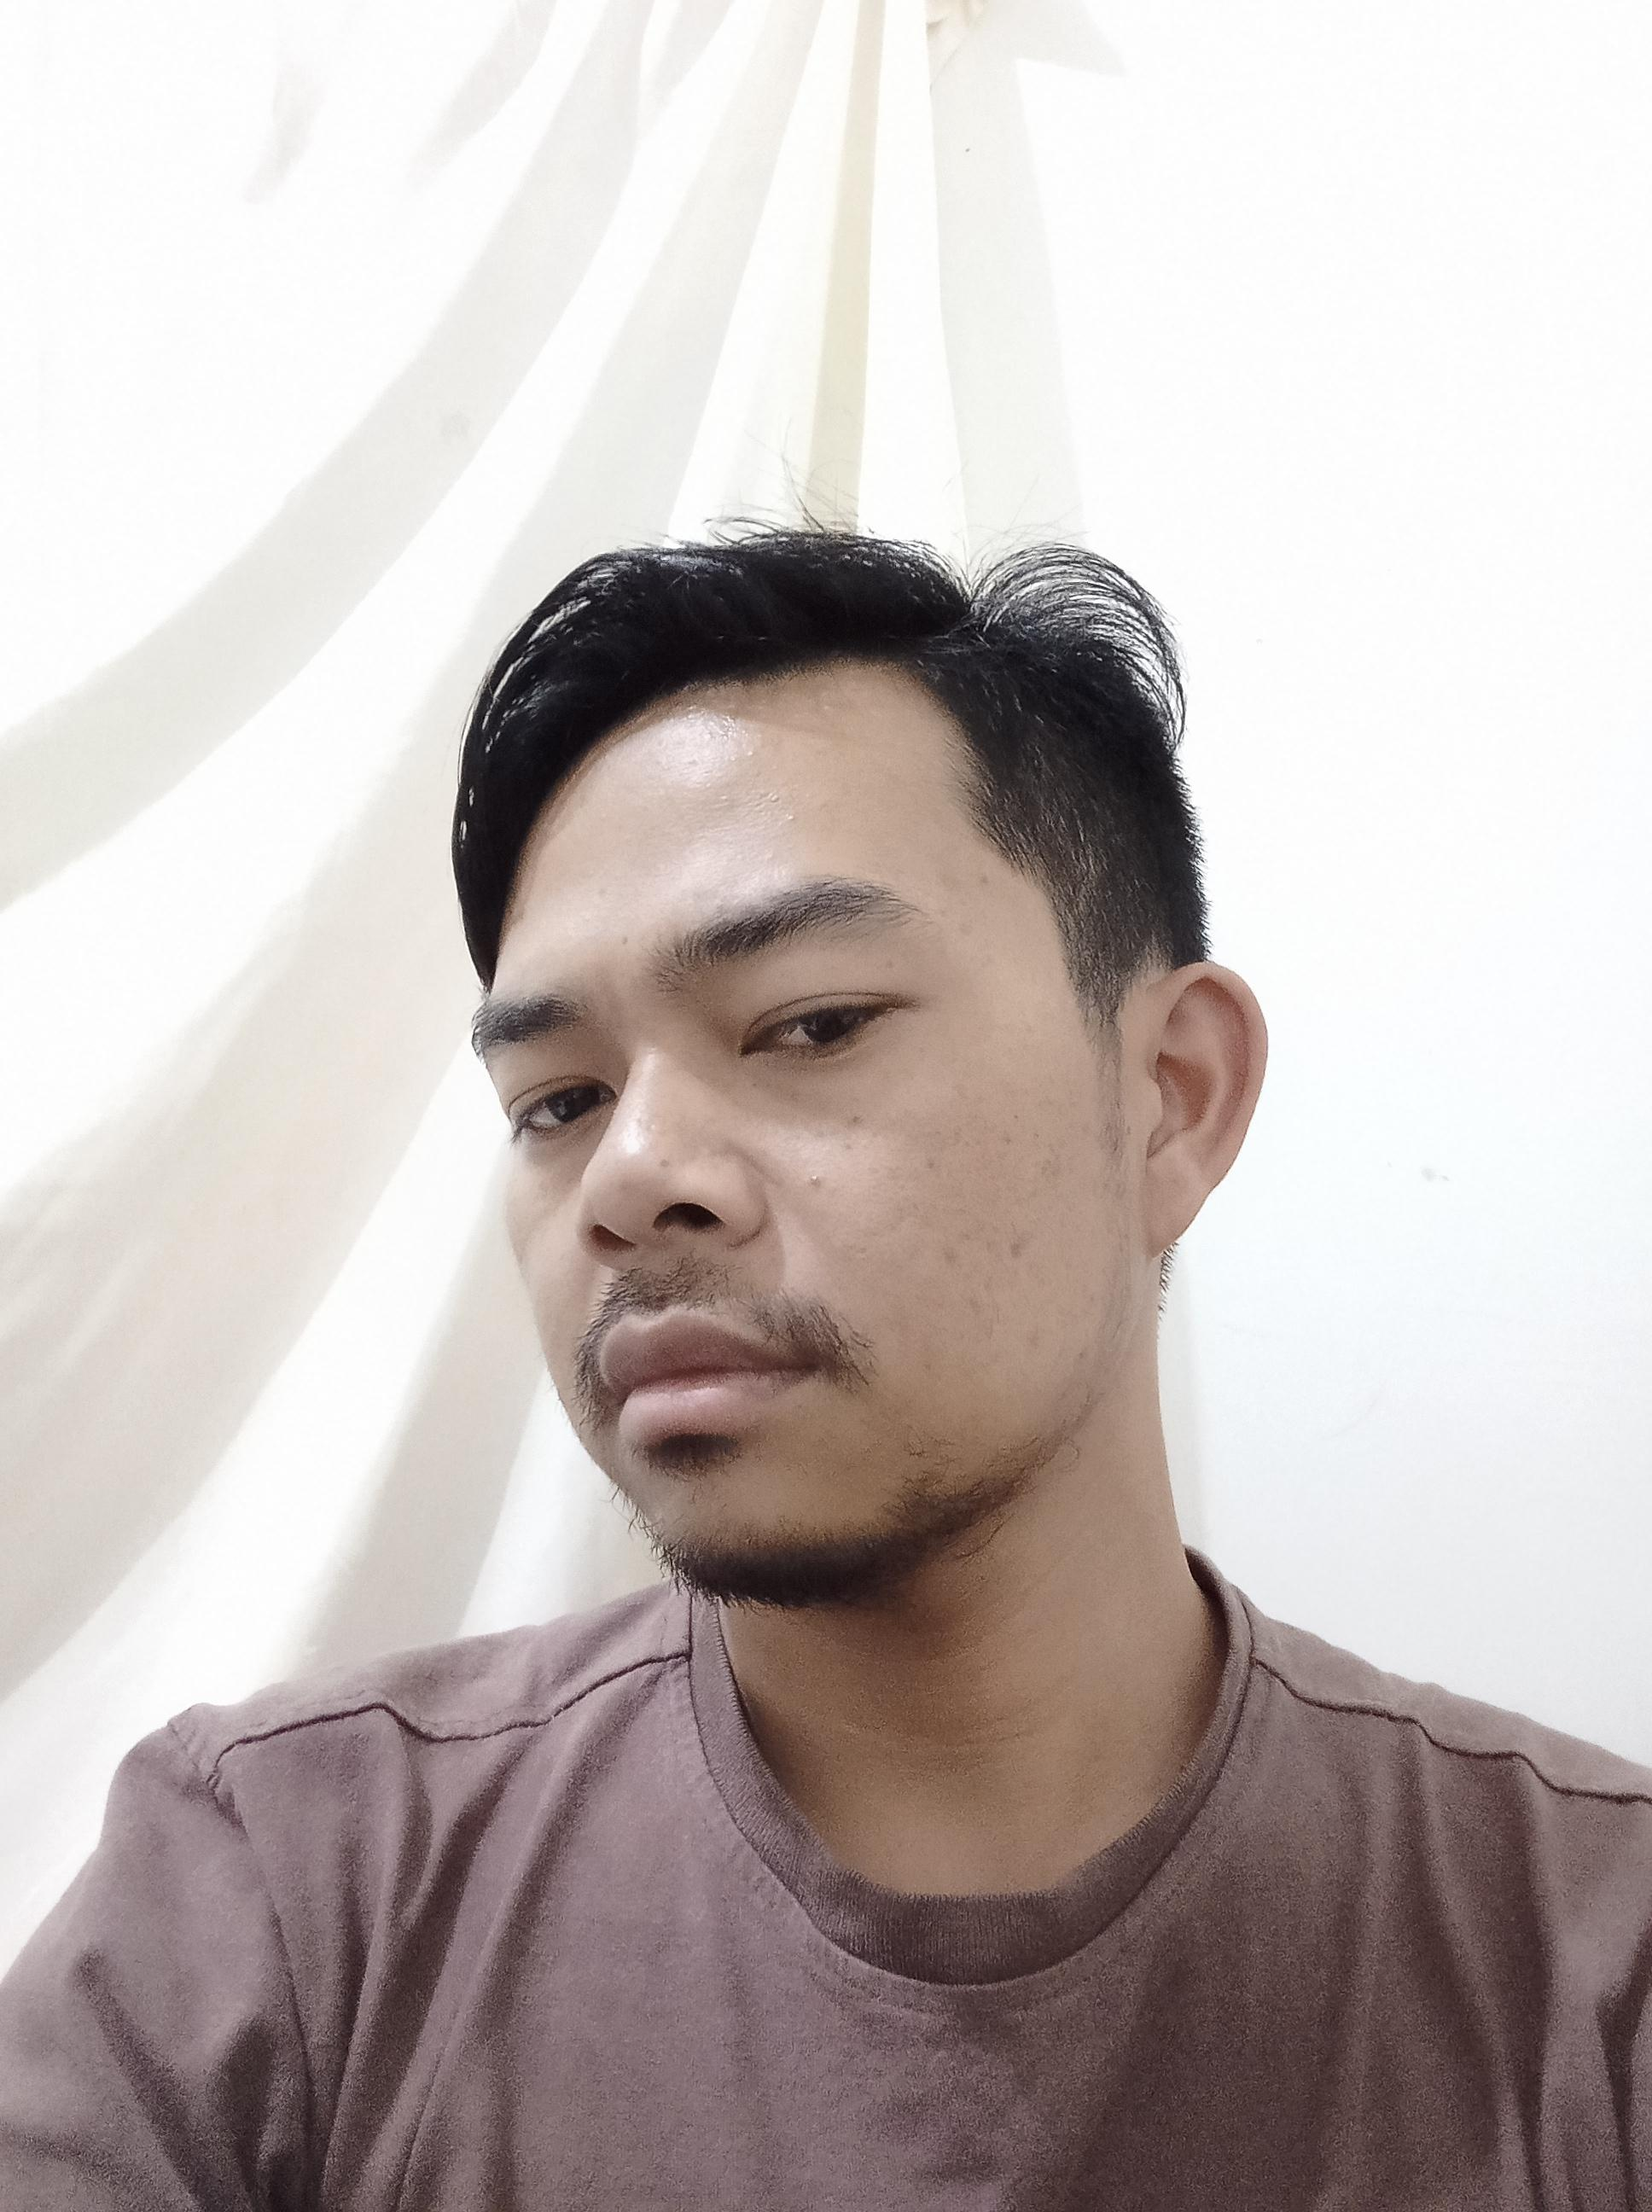Acne: (1006, 1227, 1036, 1261), (1022, 1322, 1046, 1353), (961, 1293, 986, 1324), (972, 869, 998, 892), (937, 1242, 961, 1263), (654, 1150, 673, 1175), (982, 1237, 1000, 1256), (923, 1155, 941, 1175), (805, 1168, 821, 1188), (840, 1142, 857, 1159), (616, 932, 633, 949), (845, 1109, 864, 1124), (998, 1133, 1017, 1147)
